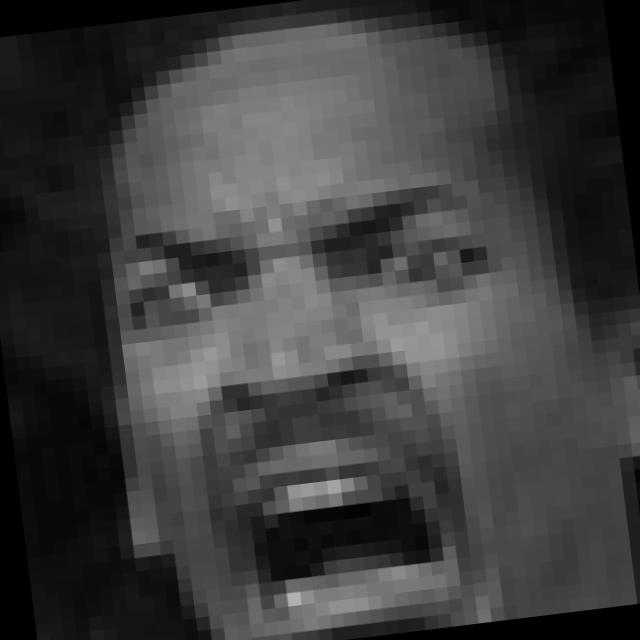disgust: (121, 186, 528, 640)
